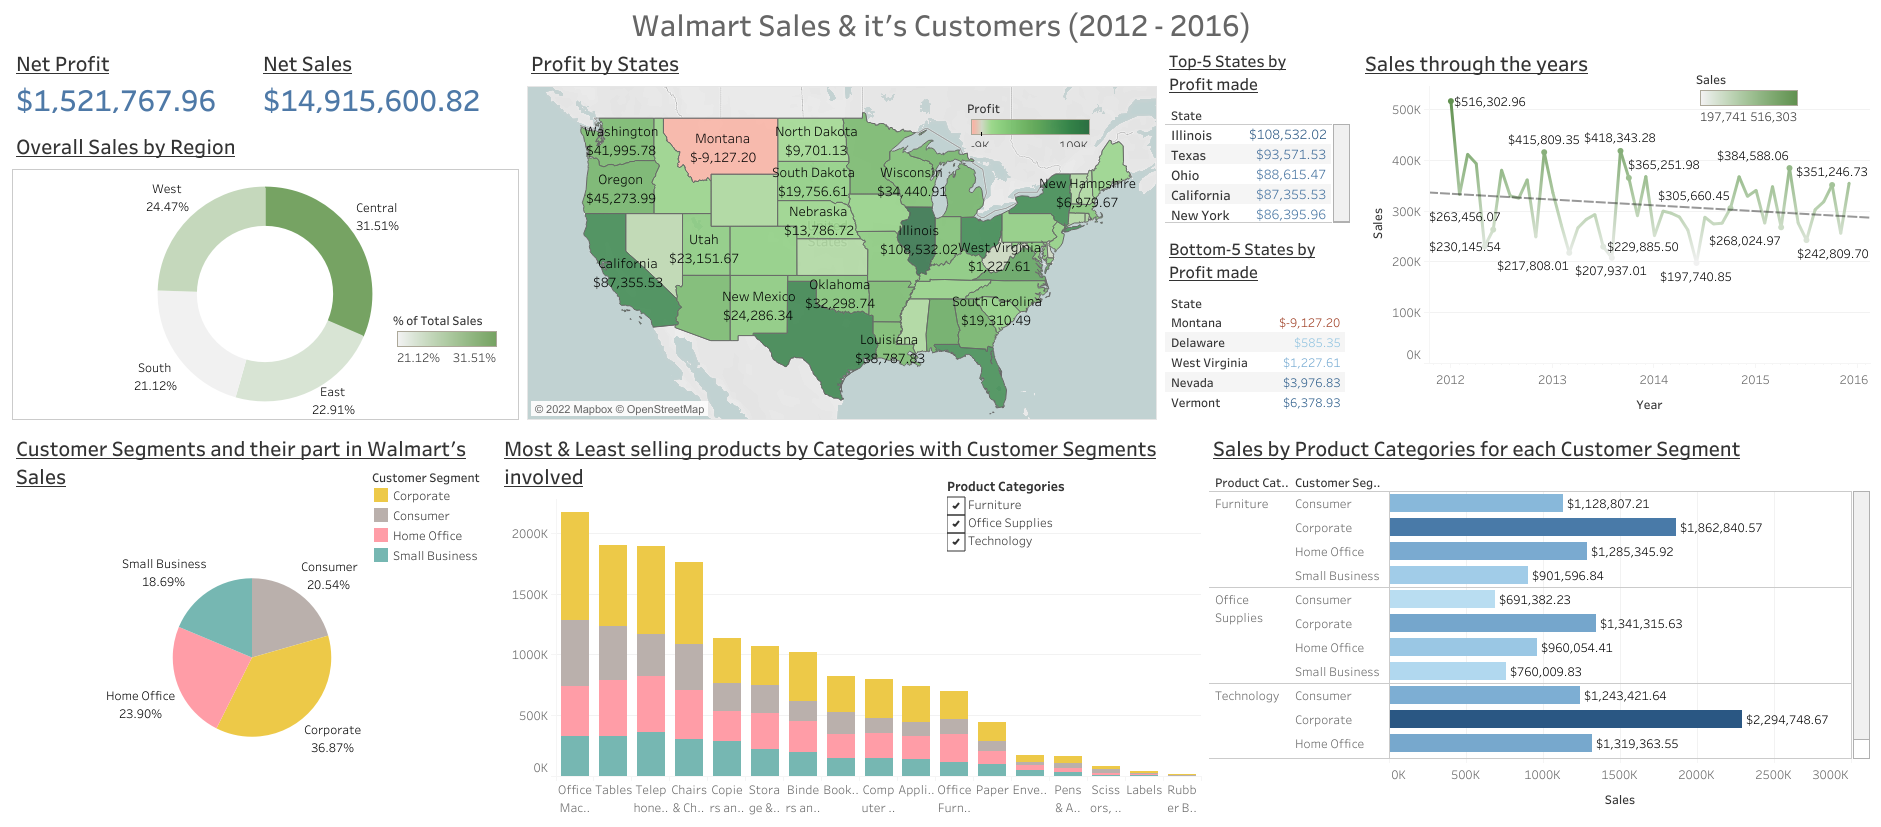

This screenshot's page, from the dashboard's own definition file:
{"tool":"tableau","page":{"name":"Dashboard 1","canvas":[1000,1000],"units":"permille","ordinal":0},"visuals":[{"type":"text","box":[4.7,9.2,990.6,37]},{"type":"worksheet","title":"Net Profit","mark":"Text","box":[4.7,46.2,131.3,100.5]},{"type":"worksheet","title":"Net Sales","mark":"Automatic","box":[136,46.2,142,100.5]},{"type":"worksheet","title":"Profit by States","mark":"Multipolygon","box":[277.9,46.2,338.8,465.9]},{"type":"worksheet","title":"Top-5 States by Profit made","mark":"Automatic","rows":["State"],"box":[616.7,46.2,104.2,227.8]},{"type":"worksheet","title":"Sales through the years","mark":"Line","rows":["Sales"],"cols":["Order Date"],"box":[720.9,46.2,274.4,465.9]},{"type":"legend","title":"Sales through the years","param":"[federated.0walaxf0xljjy21dmtzte09q76mh].[sum:Sales:qk]","box":[901.1,79.8,56.2,70.5]},{"type":"legend","title":"Profit by States","param":"[federated.0walaxf0xljjy21dmtzte09q76mh].[sum:Profit:qk]","box":[513.8,114.5,67.3,63.6]},{"type":"worksheet","title":"Overall Sales by Region","mark":"Pie","rows":["Calculation_3325134299709628417","Calculation_3325134299709628417"],"box":[4.7,146.8,273.3,365.4]},{"type":"worksheet","title":"Bottom-5 States by Profit made","mark":"Automatic","rows":["State"],"box":[616.7,274,104.2,238.2]},{"type":"legend","title":"Overall Sales by Region","param":"[federated.0walaxf0xljjy21dmtzte09q76mh].[pcto:sum:Sales:qk]","box":[208.9,371.1,57.3,71.7]},{"type":"worksheet","title":"Customer Segments and their part in Walmart's Sales","mark":"Pie","box":[4.7,512.1,259.1,478.6]},{"type":"worksheet","title":"Most & Least selling products by Categories with Customer Segments involved","mark":"Automatic","rows":["Sales"],"cols":["Product Sub-Category"],"box":[263.8,512.1,376.5,478.6]},{"type":"worksheet","title":"Sales by Product Categories for each Customer Segment","mark":"Automatic","rows":["Product Category","Customer Segment"],"cols":["Sales"],"box":[640.4,512.1,355,478.6]},{"type":"legend","title":"Most & Least selling products by Categories with Customer Segments involved","param":"[federated.0walaxf0xljjy21dmtzte09q76mh].[none:Customer Segment:nk]","box":[197.2,563,63.2,116.8]},{"type":"filter","title":"Sales by Product Categories for each Customer Segment","param":"[federated.0walaxf0xljjy21dmtzte09q76mh].[none:Product Category:nk]","box":[503.2,573.4,109.4,124.9]}]}

Visuals, with their boxes on the dashboard's canvas, which has no fixed pixel size, in thousandths of its width and height (x1, y1, x2, y2). These are canvas units, not pixel positions in the 1881x827 screenshot, which may show the page scaled, cropped or inside an application window:
text: <region>5, 9, 995, 46</region>
"Net Profit" worksheet (Text marks): <region>5, 46, 136, 147</region>
"Net Sales" worksheet: <region>136, 46, 278, 147</region>
"Profit by States" worksheet (Multipolygon marks): <region>278, 46, 617, 512</region>
"Top-5 States by Profit made" worksheet: <region>617, 46, 721, 274</region>
"Sales through the years" worksheet (Line marks): <region>721, 46, 995, 512</region>
"Sales through the years" legend: <region>901, 80, 957, 150</region>
"Profit by States" legend: <region>514, 114, 581, 178</region>
"Overall Sales by Region" worksheet (Pie marks): <region>5, 147, 278, 512</region>
"Bottom-5 States by Profit made" worksheet: <region>617, 274, 721, 512</region>
"Overall Sales by Region" legend: <region>209, 371, 266, 443</region>
"Customer Segments and their part in Walmart's Sales" worksheet (Pie marks): <region>5, 512, 264, 991</region>
"Most & Least selling products by Categories with Customer Segments involved" worksheet: <region>264, 512, 640, 991</region>
"Sales by Product Categories for each Customer Segment" worksheet: <region>640, 512, 995, 991</region>
"Most & Least selling products by Categories with Customer Segments involved" legend: <region>197, 563, 260, 680</region>
"Sales by Product Categories for each Customer Segment" filter: <region>503, 573, 613, 698</region>
